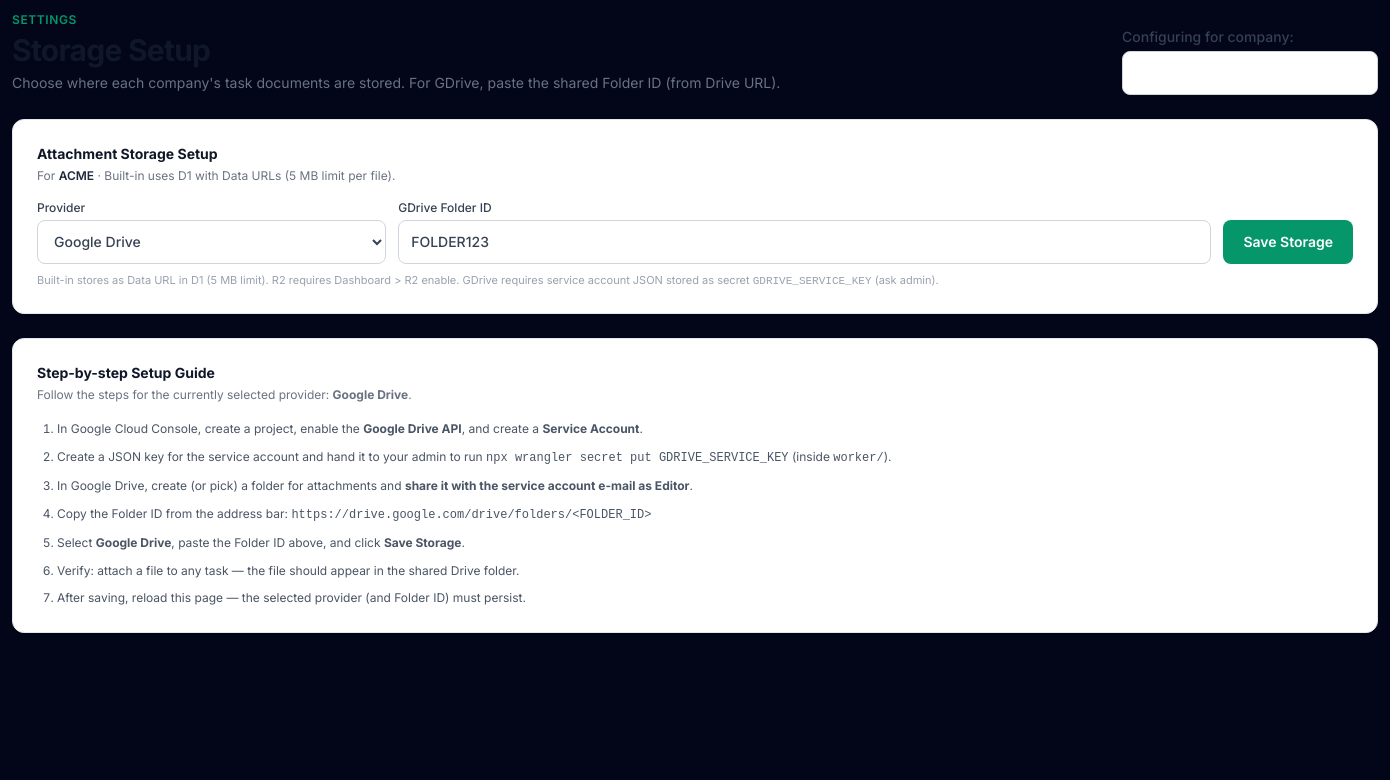
StorageSetup page › saves the storage config via PUT company-settings
Expected: the field showing "FOLDER123" is shown, [398,220,1211,264]
Click the button "Save Storage". click: (1288,242)
box: [1223,220,1353,264]
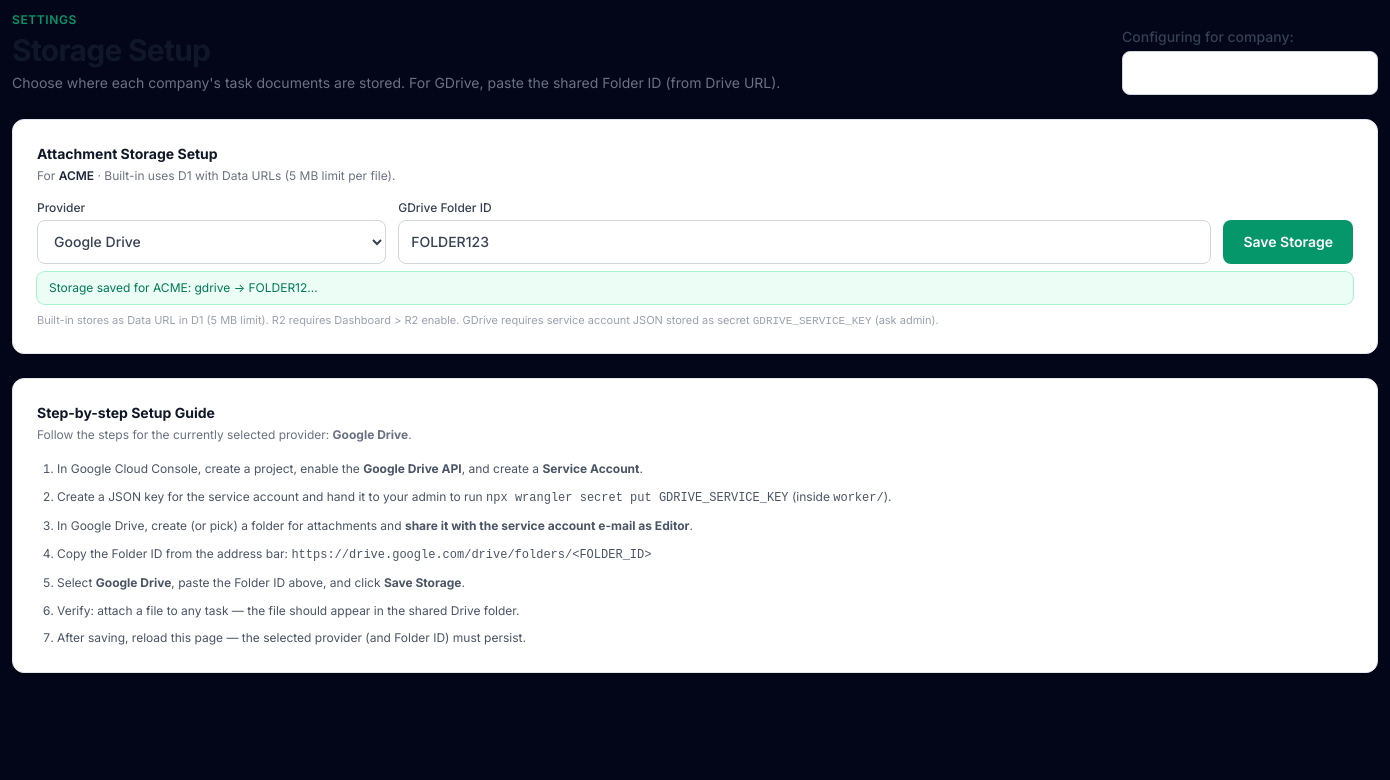
Expected: the text "Storage saved for ACME: gdrive → FOLDER12…" is shown, [37,272,1353,304]
